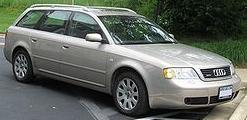front_view: (150, 58, 243, 110)
headlight: (163, 66, 201, 83)
side_glass: (12, 8, 103, 40)
